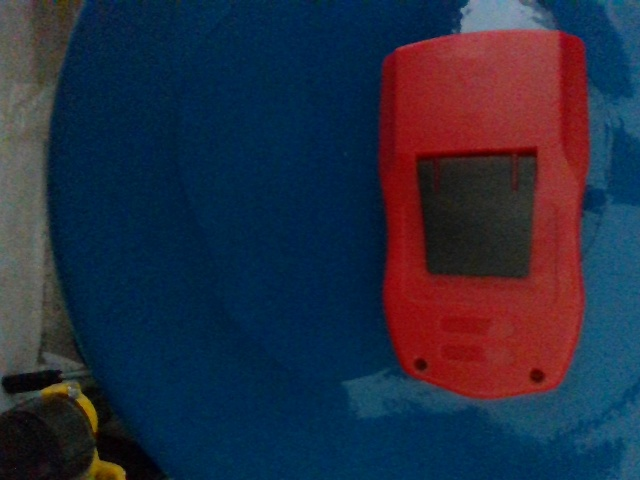multimeter: (377, 28, 590, 400)
screw hole: (529, 369, 546, 385), (415, 359, 428, 372)
